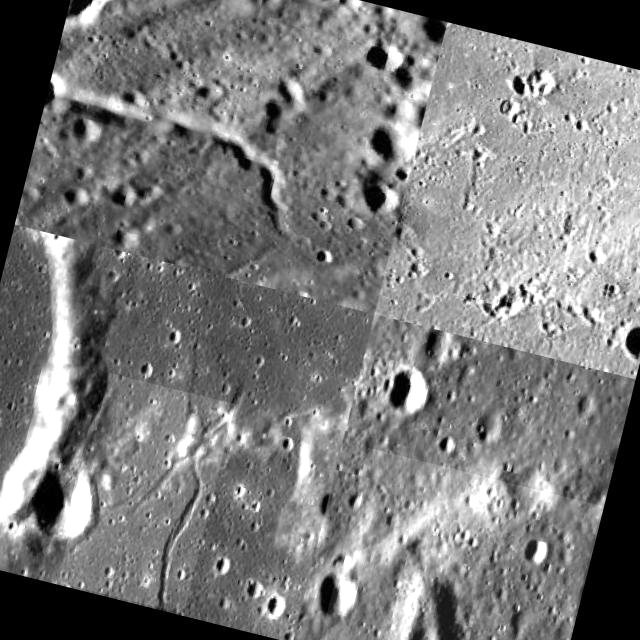crater: (26, 0, 373, 248), (317, 448, 601, 640), (56, 372, 235, 614)
